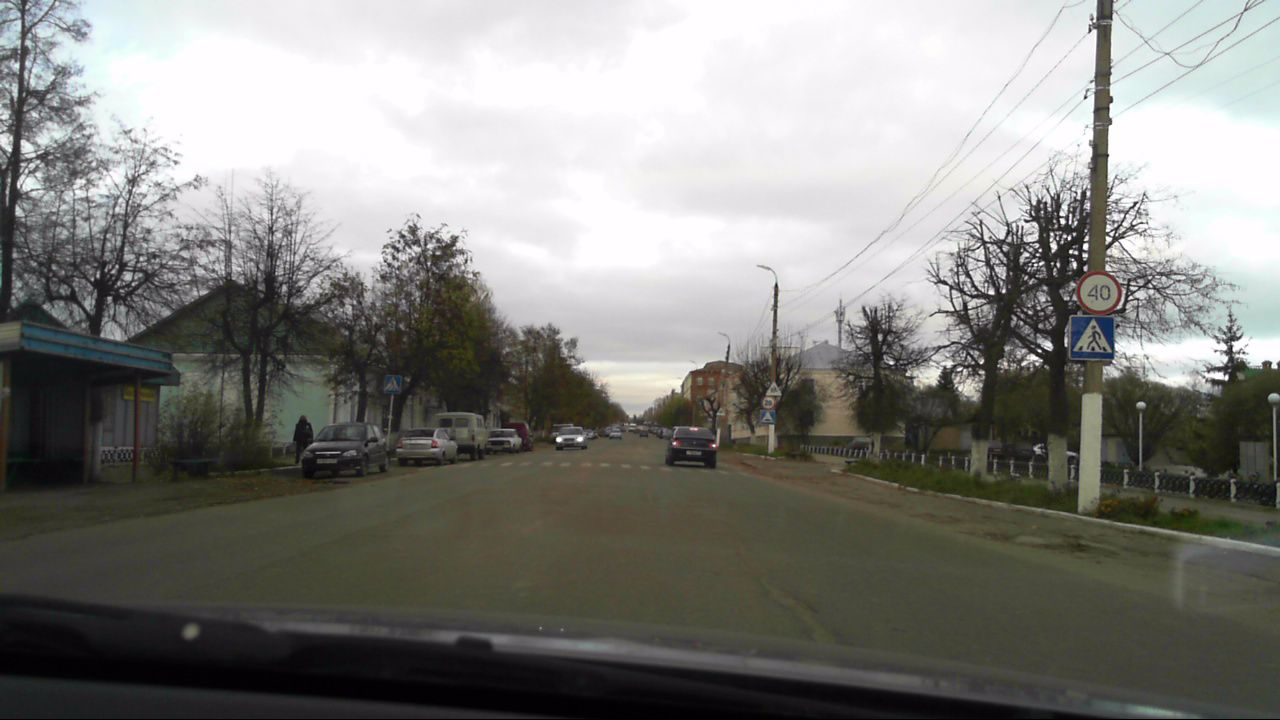speed_warning_40: (1074, 269, 1122, 314)
